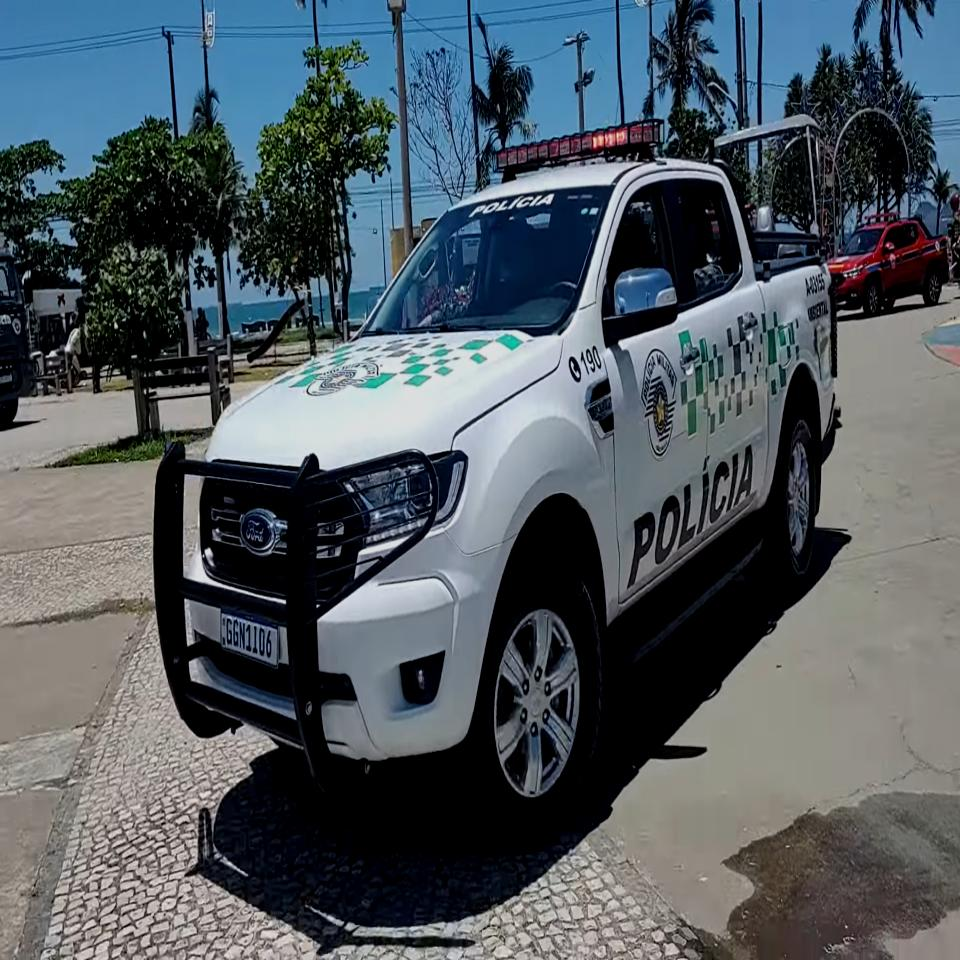viatura: (153, 123, 844, 856)
